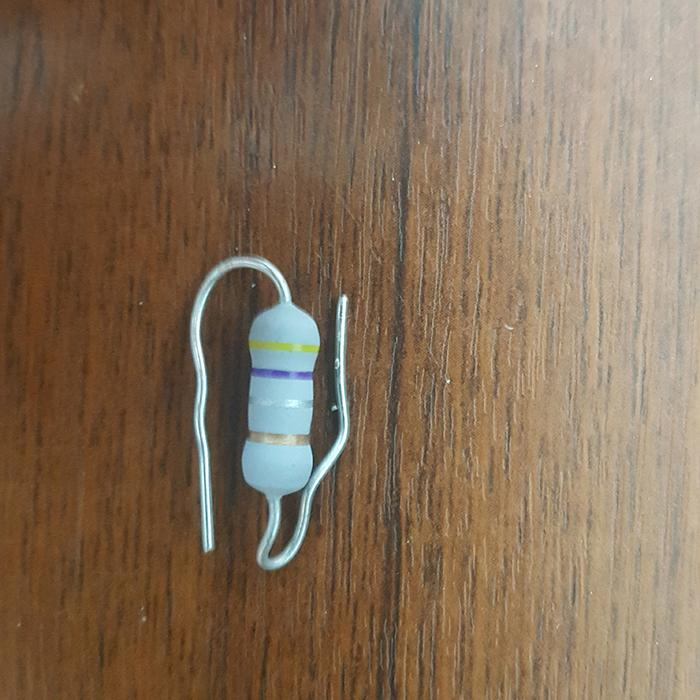resistor: (243, 302, 320, 503)
